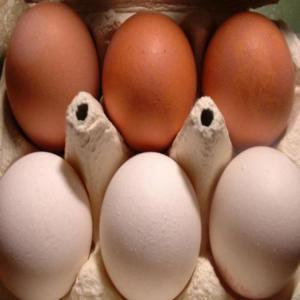Egg: (89, 142, 207, 300), (101, 6, 206, 157), (2, 142, 99, 300), (192, 8, 296, 154), (206, 140, 300, 300), (10, 2, 106, 156)
